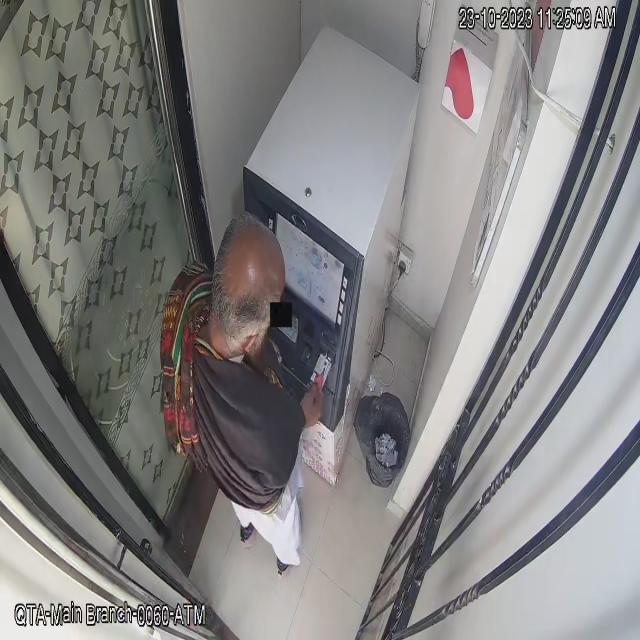atm-card: (307, 346, 336, 389)
